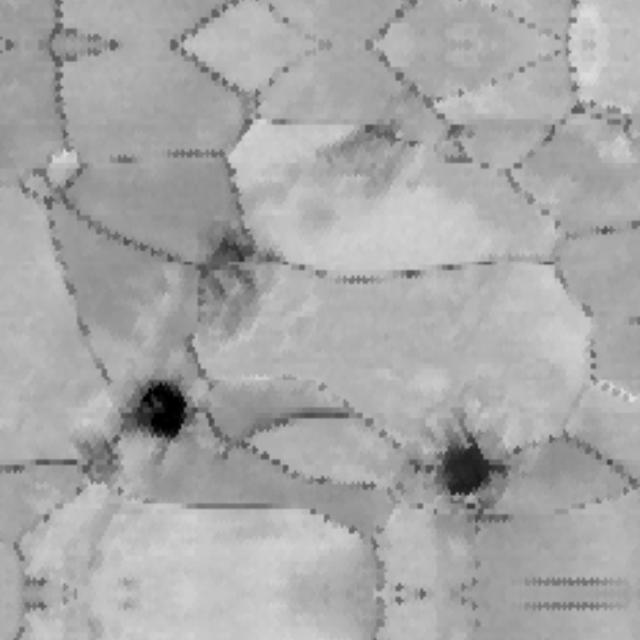good_void: (314, 115, 427, 208), (190, 229, 272, 342), (439, 430, 513, 507), (123, 375, 199, 448), (76, 432, 136, 500)
